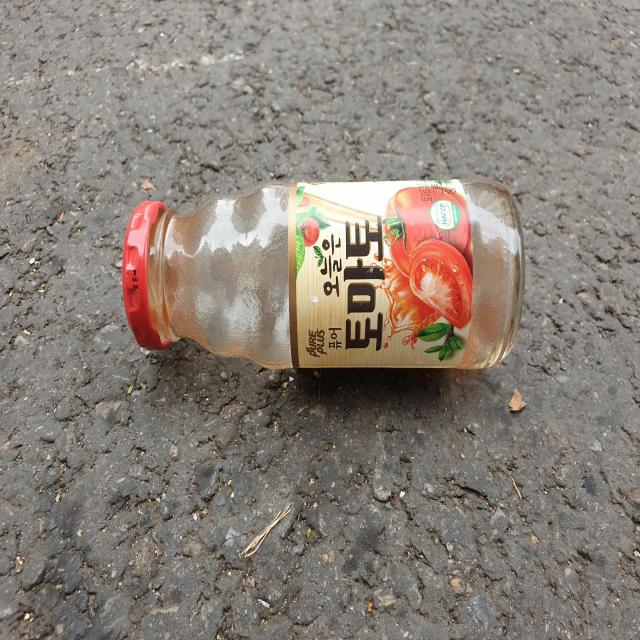glass: (122, 179, 525, 370)
